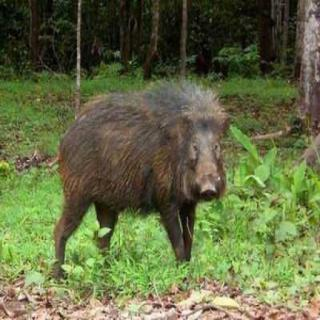Pig: (41, 66, 234, 275)
